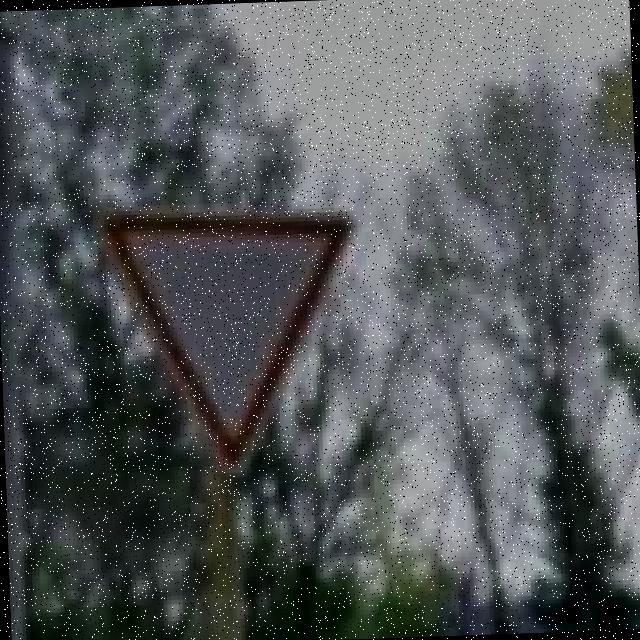Ustap pierwszenstwa: (96, 202, 366, 477)
